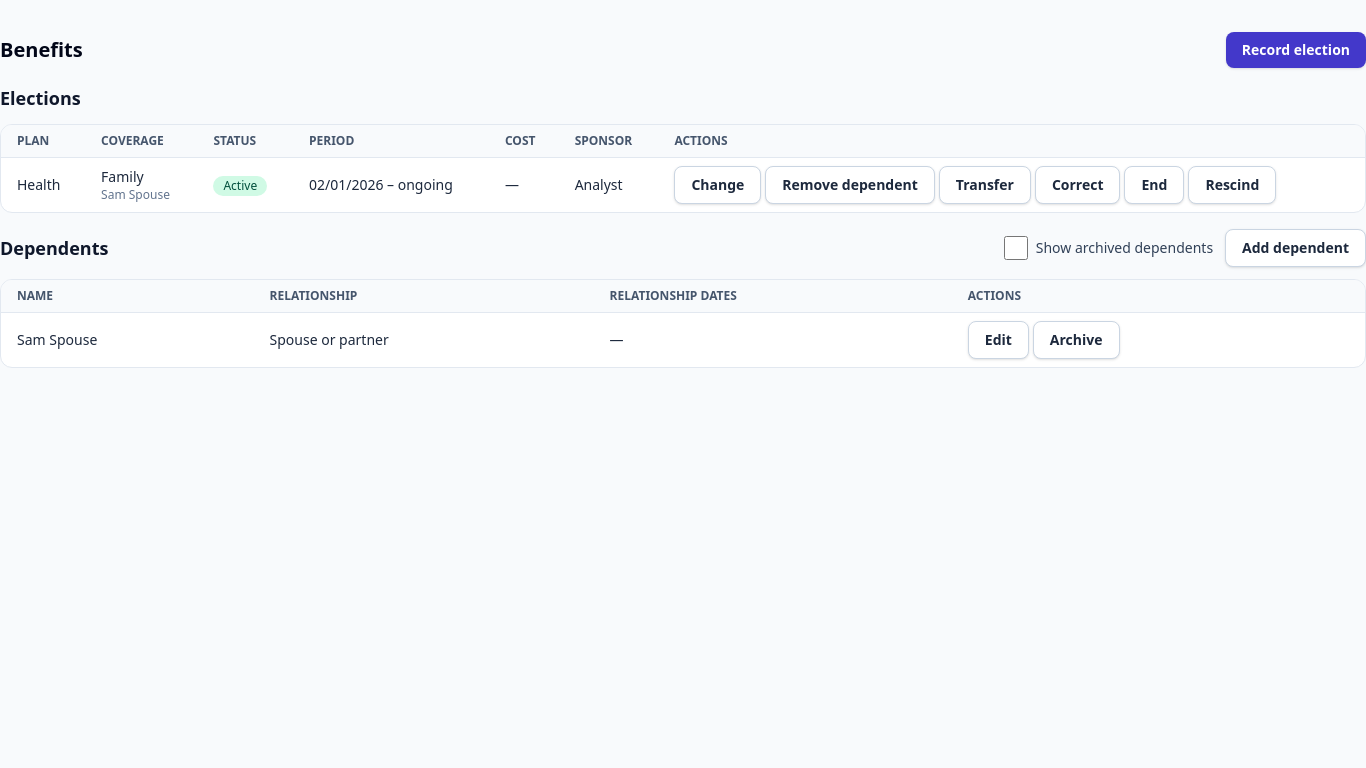
it: EmployeeBenefitsSection (Batch 7C) › asks for an override when the API answers not eligible
Click the button with aria-label "Change coverage for Health": (718, 185) [674,166,761,204]
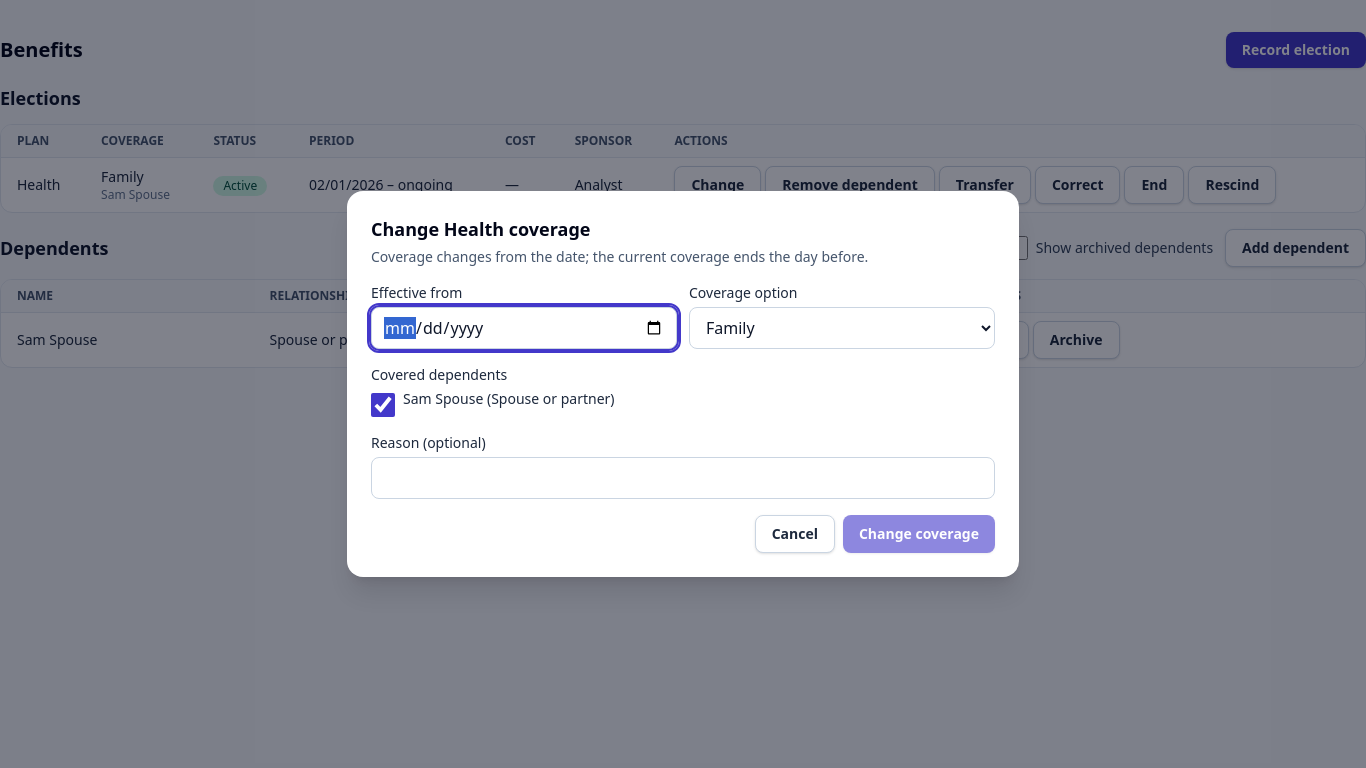
In the date field labelled "Effective from": (524, 328) [371,307,677,349], type "2026-06-01"
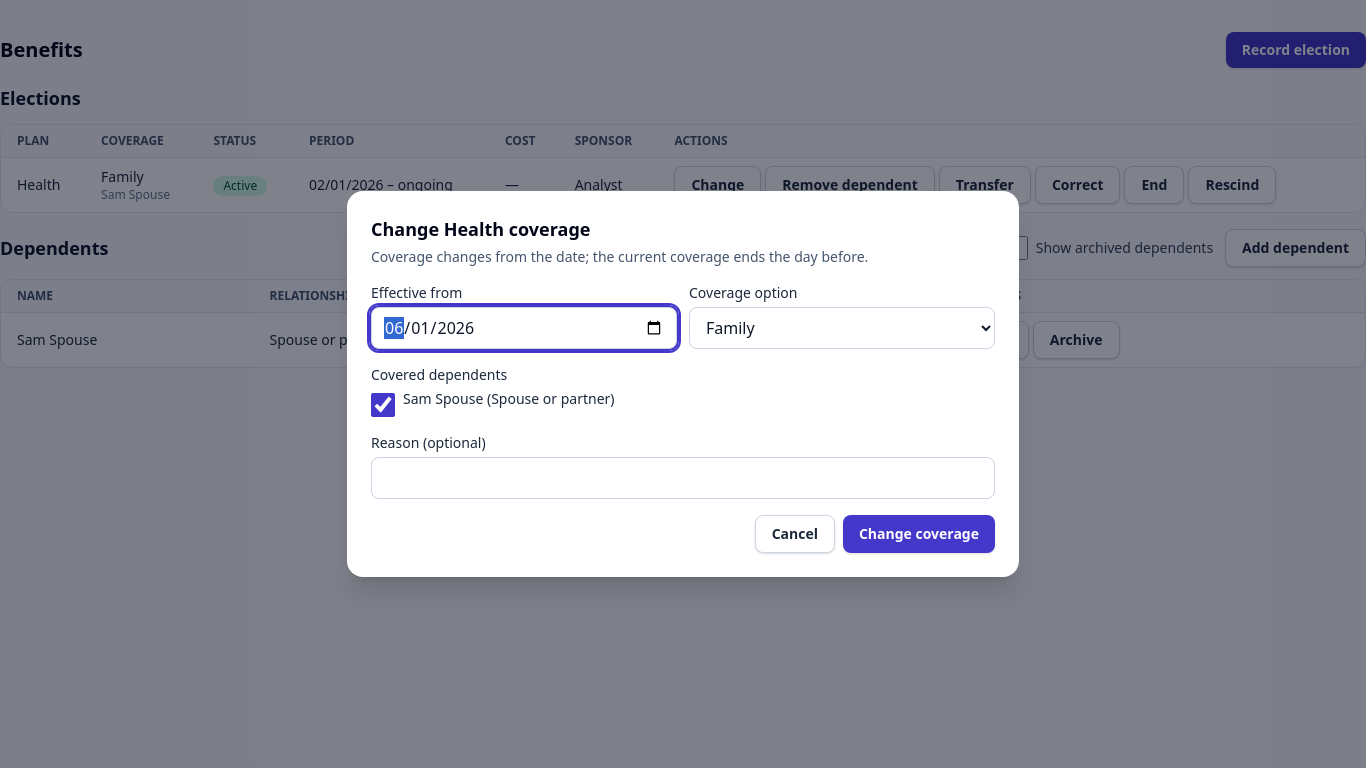
Click the button "Change coverage": (919, 534) [843,515,995,553]
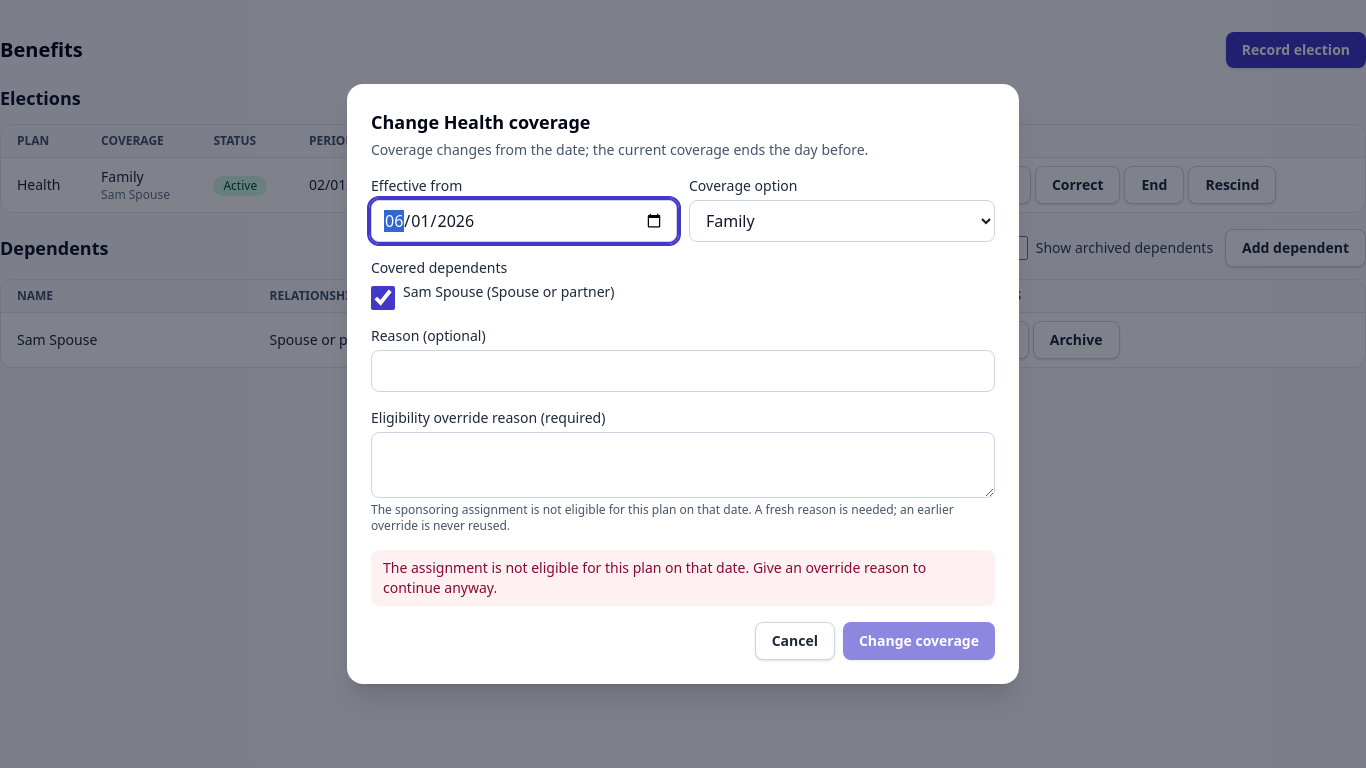
Expected: the message shows "override reason", [383,558,926,597]
Expected: the text box labelled "Eligibility override reason (required)" is shown, [371,432,995,498]
